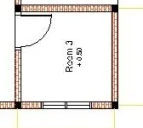door: (7, 12, 55, 50)
window: (39, 97, 96, 117)
